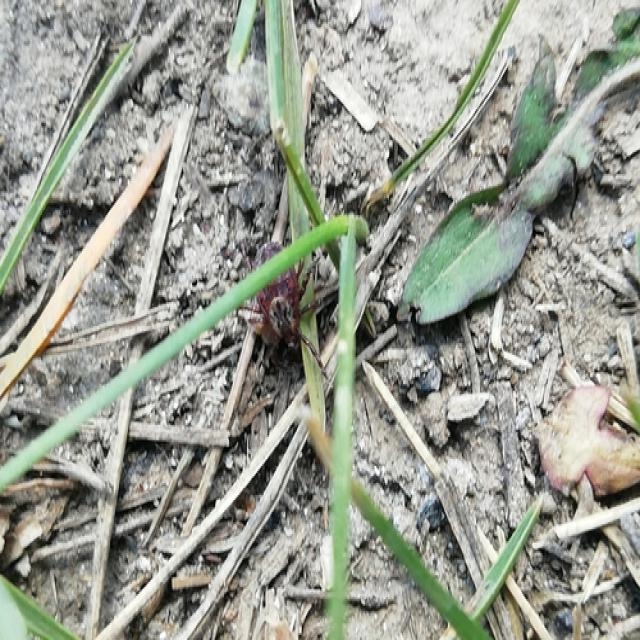Dermacentor Reticulatus-F: (257, 259, 328, 375)
